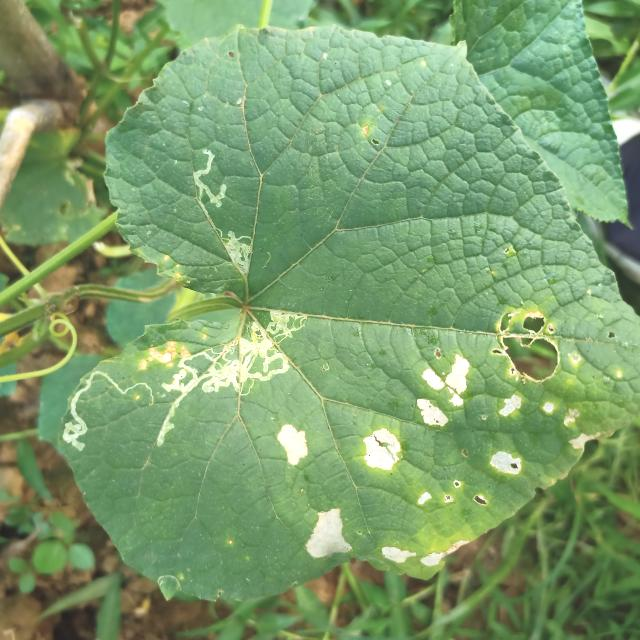disease_cucumber: (306, 307, 604, 565), (271, 414, 313, 470)
